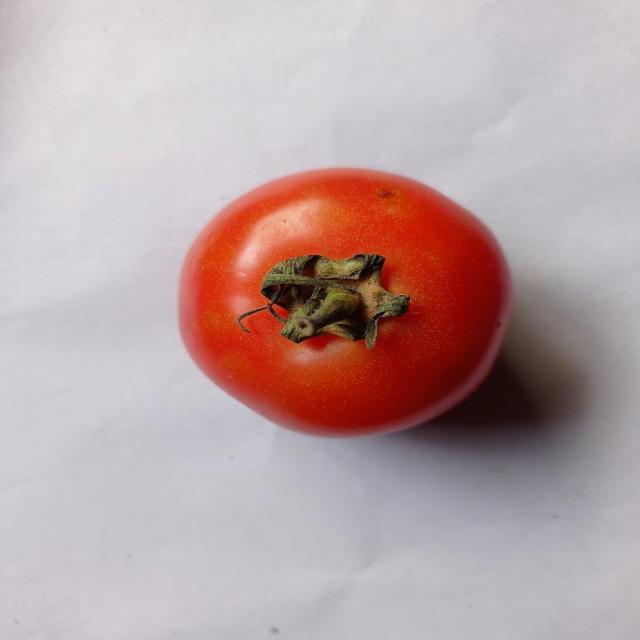Tomato: (170, 158, 524, 442)
